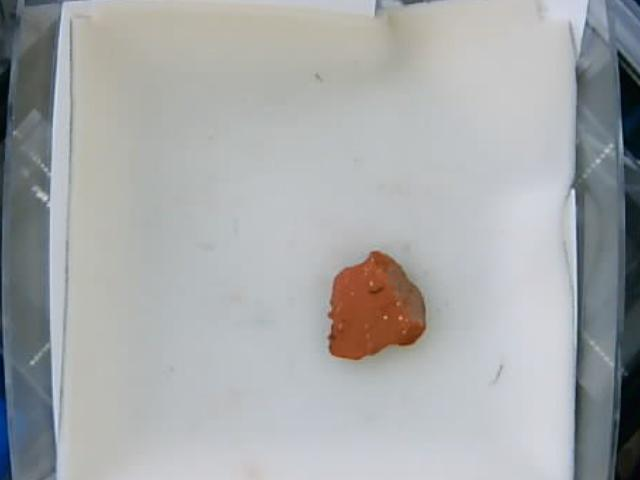Brisk: (326, 249, 428, 359)
